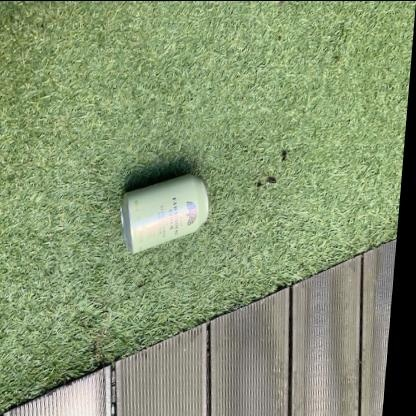trash: (121, 175, 207, 252)
